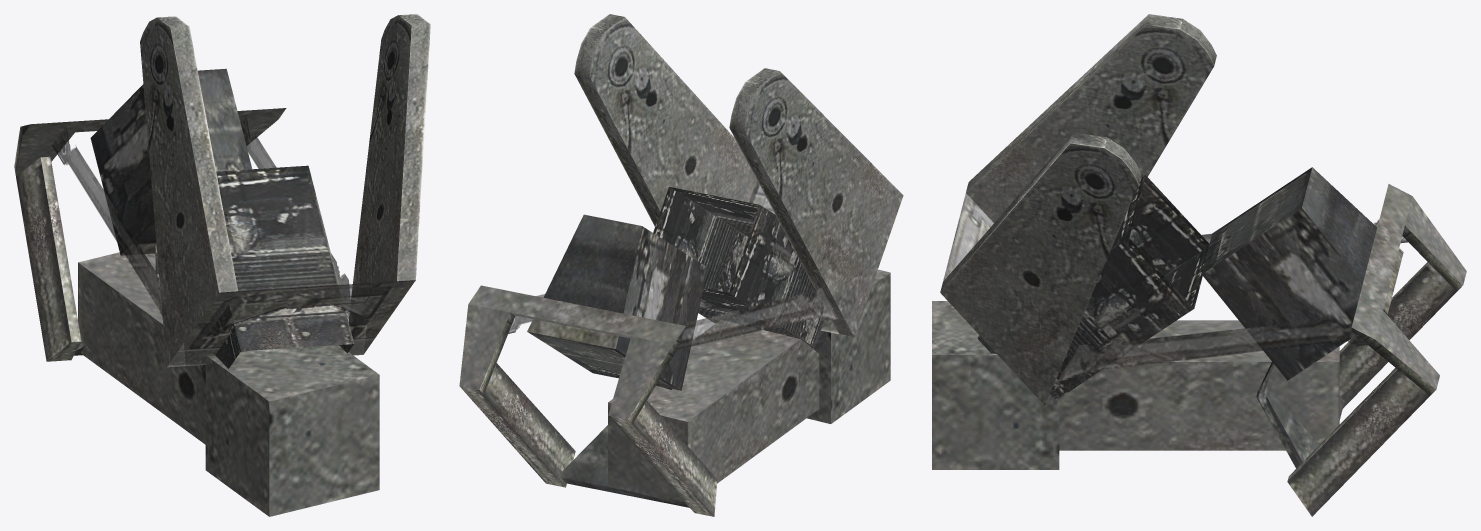
The model's file is minigunX.glb.
3 renders of one model, left to right at view 1: azimuth 30°, elevation 25°; view 2: azimuth 150°, elevation 25°; view 3: azimuth 270°, elevation 25°, orthographic. The views are drawn at different scales.
Visible parts, largest first — view 1: _minigunX; view 2: _minigunX; view 3: _minigunX.
Part boxes in pixels (bbox=[...]): _minigunX: bbox=[14, 14, 430, 516]; _minigunX: bbox=[459, 14, 903, 516]; _minigunX: bbox=[932, 14, 1466, 516].
Bounding box in the file's own units: 0.3141 × 0.4736 × 0.5452.
Materials: 2 (2 with a texture image).
